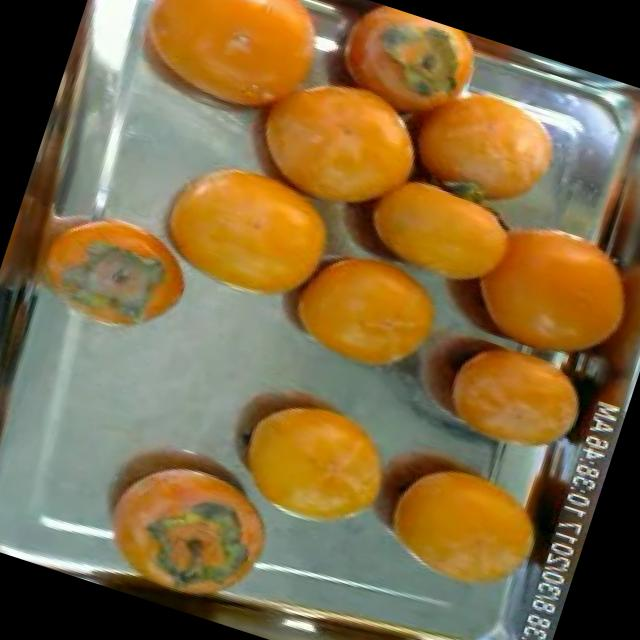Fruit: (125, 134, 368, 338), (427, 182, 640, 383), (0, 176, 217, 365), (206, 361, 417, 554), (361, 431, 571, 617), (261, 220, 468, 401), (421, 328, 606, 477)
